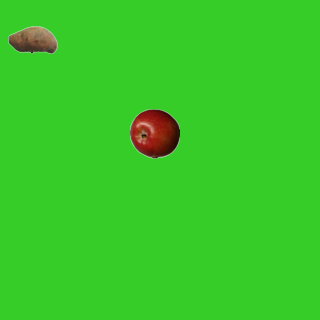Apple Braeburn: (129, 108, 179, 158)
Potato Sweet: (7, 14, 57, 64)
